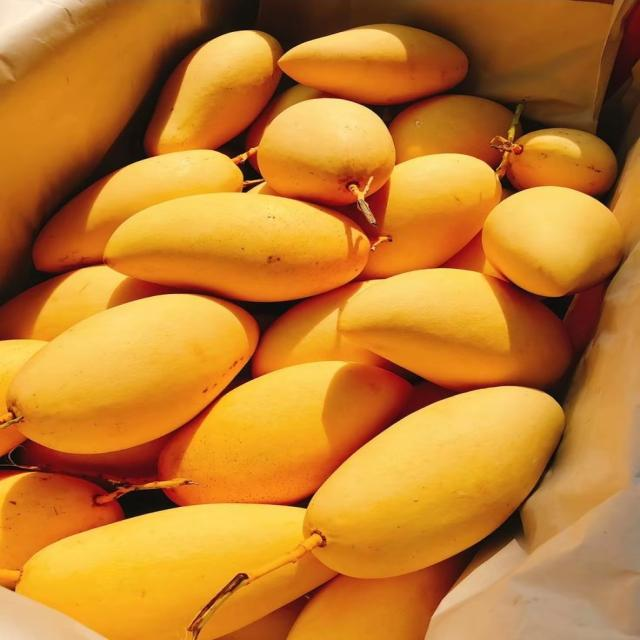mango: (305, 387, 564, 577), (7, 294, 257, 453), (17, 505, 305, 639), (159, 361, 411, 504), (106, 194, 369, 301), (339, 269, 571, 390), (34, 149, 243, 272), (359, 154, 500, 279), (145, 31, 282, 155), (482, 186, 623, 296), (279, 24, 467, 104), (258, 98, 395, 206), (287, 557, 463, 639), (252, 282, 396, 376), (0, 265, 173, 340), (0, 471, 124, 569), (390, 95, 513, 167), (13, 434, 170, 482), (507, 128, 617, 195), (246, 84, 327, 148), (220, 597, 308, 639), (0, 340, 46, 412), (563, 282, 607, 356), (442, 232, 507, 281), (442, 232, 506, 280), (399, 381, 455, 419), (247, 182, 279, 195)
